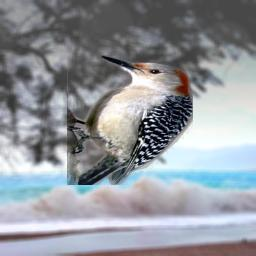Woodpecker: (67, 55, 193, 185)
